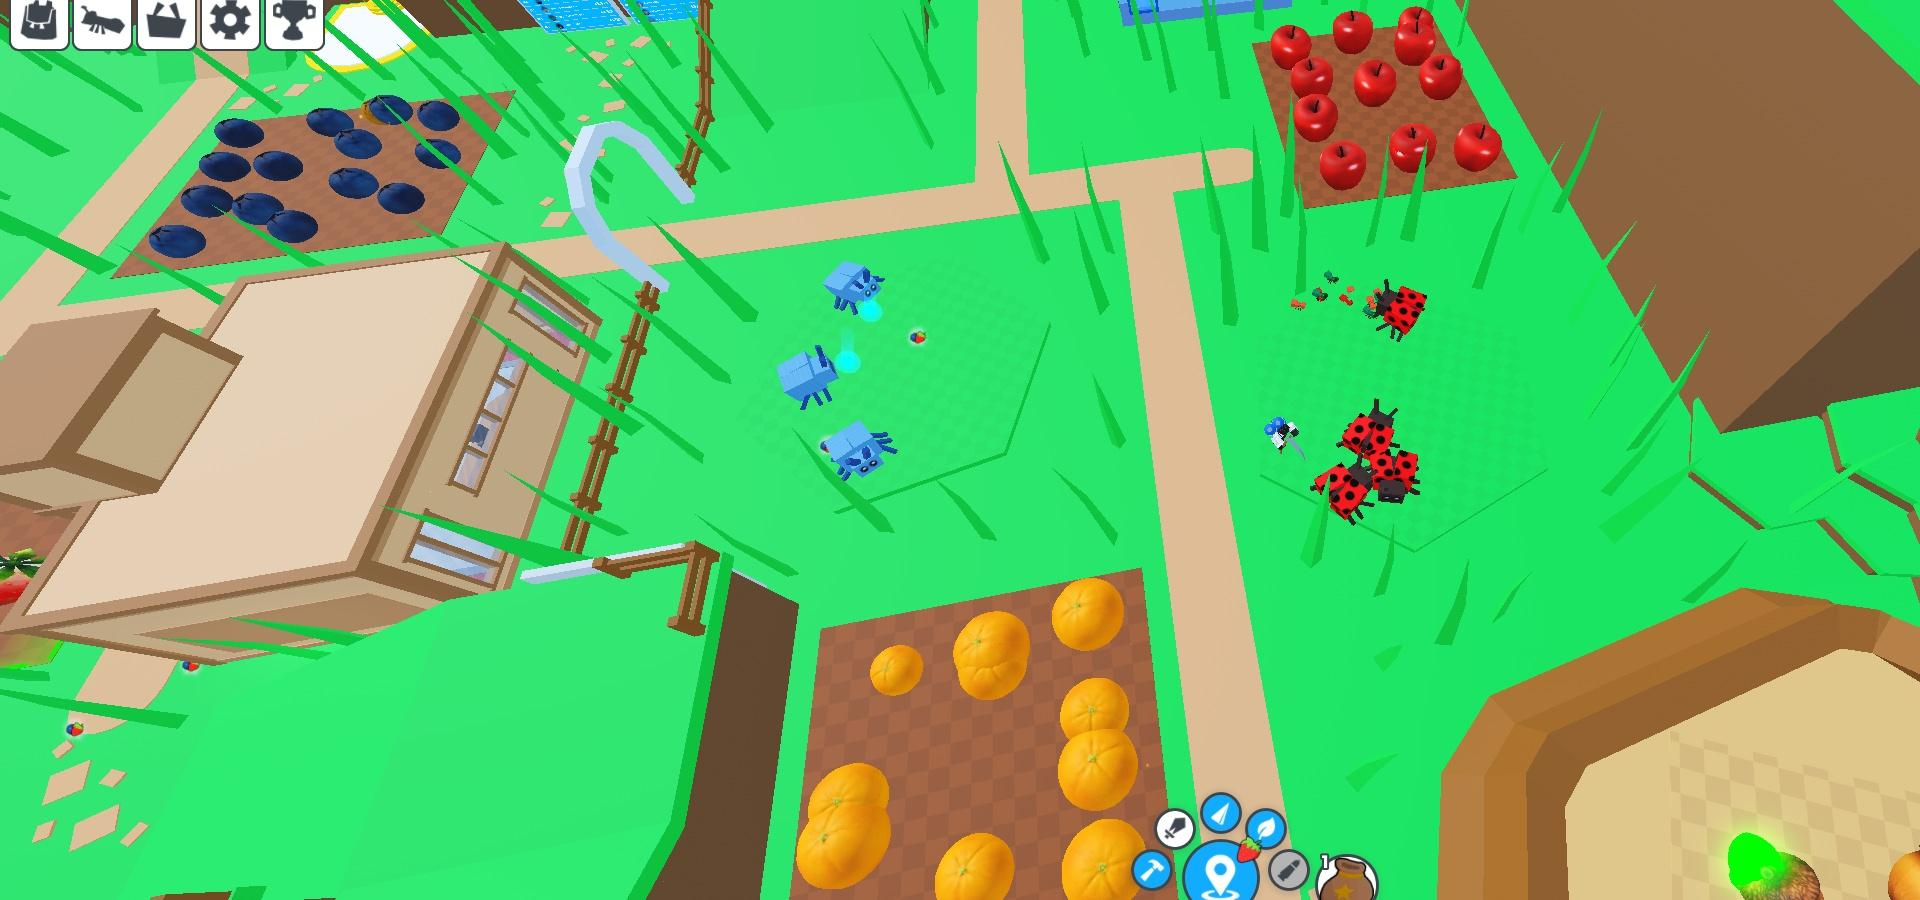Enemy: (778, 343, 841, 411), (820, 419, 890, 479), (1364, 278, 1428, 343), (823, 260, 888, 317), (1308, 462, 1368, 523), (1338, 407, 1407, 454), (1370, 453, 1430, 502)
